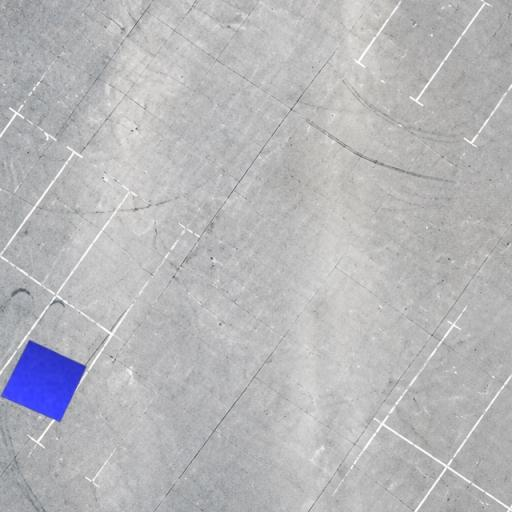BLUE_SQUARE: (0, 340, 87, 422)
